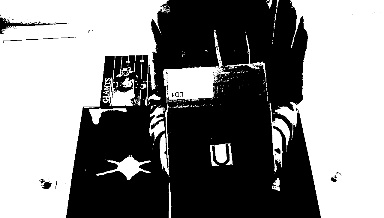U: (209, 144, 231, 164)
